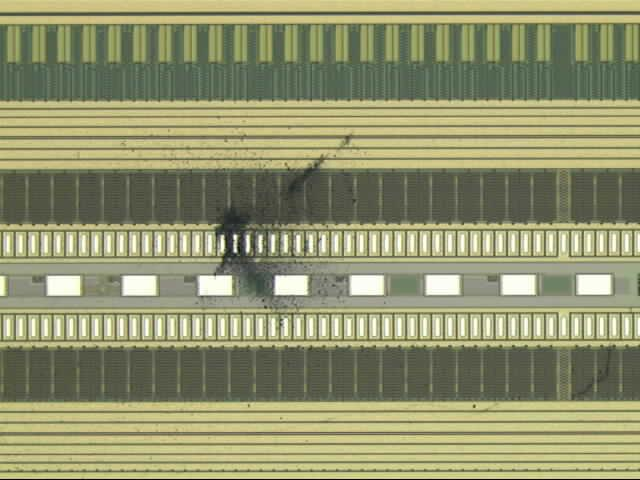PO CONTAMINATION: (105, 110, 384, 344)
